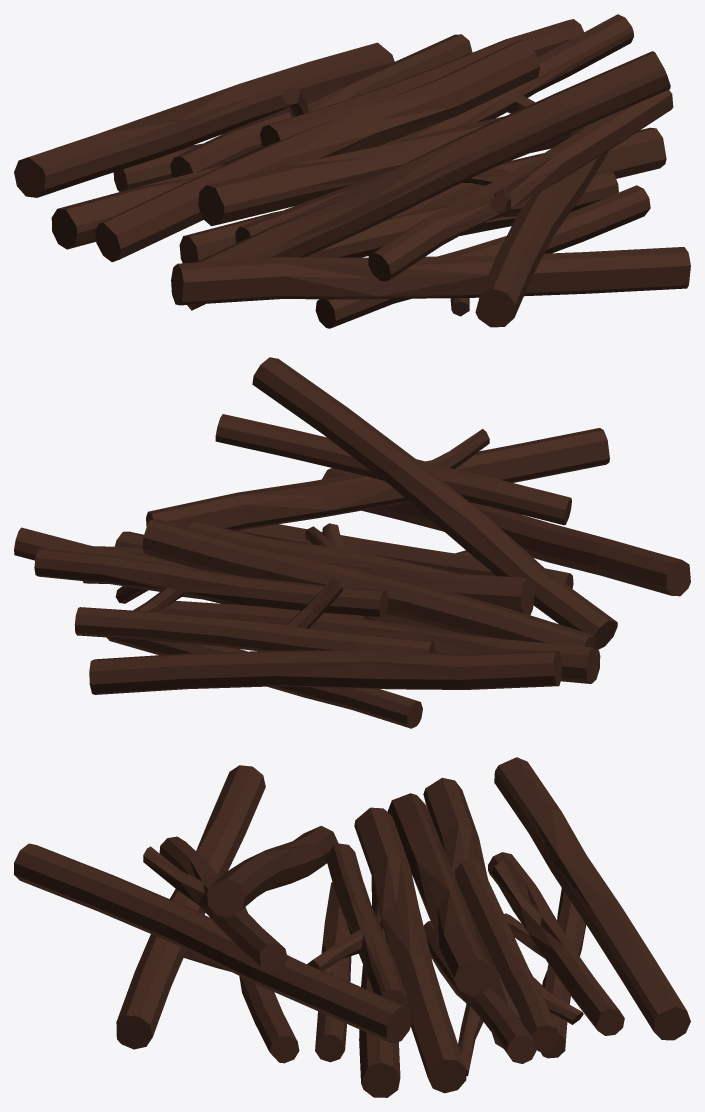
Rendered from Reliquia_Cata_wood_Brasier.FBX.
3 views of the same model, one above another, from view 1: azimuth 30°, elevation 25°; view 2: azimuth 150°, elevation 25°; view 3: azimuth 270°, elevation 25° (orthographic). The views are drawn at different scales.
Visible parts, largest first — view 1: Reliquia_Cata_Wood_Brasier; view 2: Reliquia_Cata_Wood_Brasier; view 3: Reliquia_Cata_Wood_Brasier.
Boxes of the visible parts, bbox=[...] form: Reliquia_Cata_Wood_Brasier: bbox=[14, 14, 690, 328]; Reliquia_Cata_Wood_Brasier: bbox=[14, 357, 690, 728]; Reliquia_Cata_Wood_Brasier: bbox=[14, 757, 690, 1097].
Bounding box in the file's own units: 86.29 × 26.25 × 88.63.
